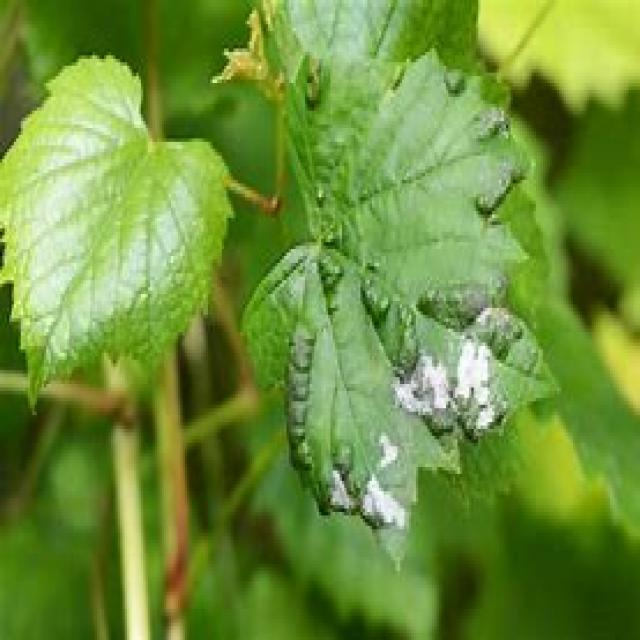Leaf_Mold: (308, 264, 540, 524)
Mosaic_Virus: (0, 70, 216, 368)
